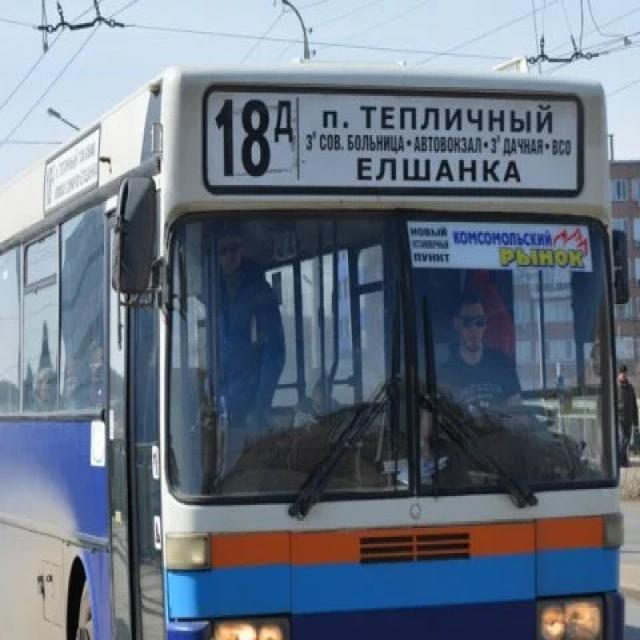number-of-bus: (213, 94, 297, 186)
